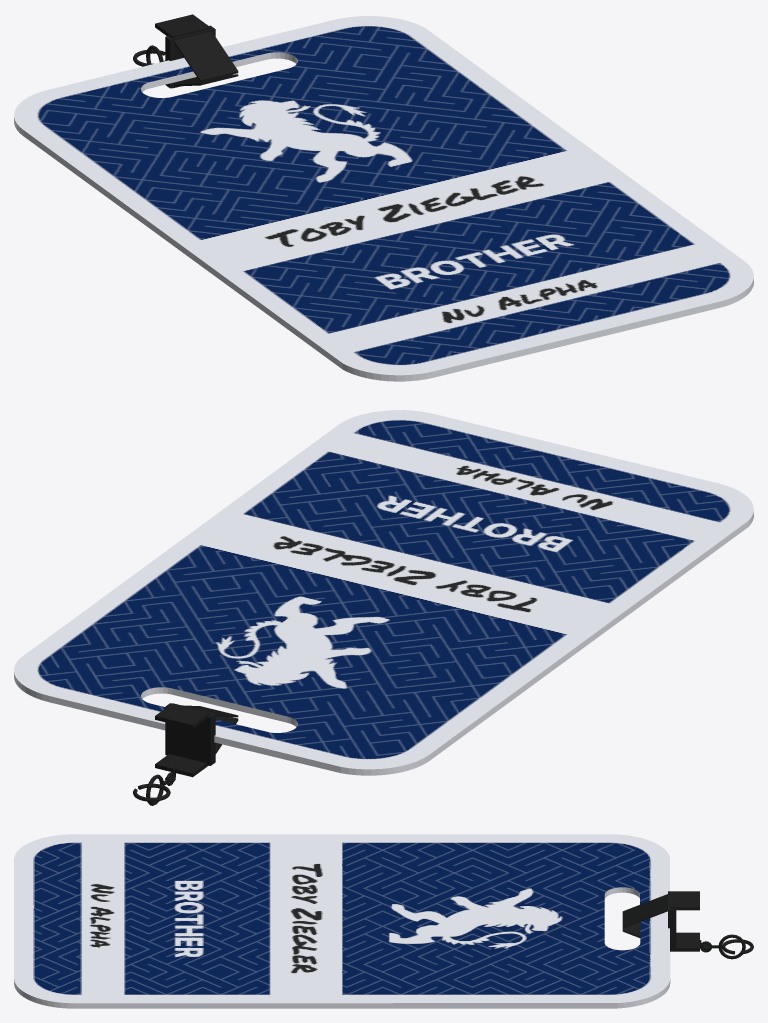
The model's file is card7.glb.
3 views of the same model, one above another, from view 1: azimuth 30°, elevation 25°; view 2: azimuth 150°, elevation 25°; view 3: azimuth 270°, elevation 25° (orthographic). The views are drawn at different scales.
Parts seen in each view (by area): view 1: card, clip; view 2: card, clip; view 3: card, clip.
Part boxes in pixels (left/top/right/bottom): card: left=14, top=16, right=753, bottom=381; clip: left=146, top=14, right=238, bottom=88; card: left=14, top=410, right=753, bottom=775; clip: left=146, top=703, right=238, bottom=805; card: left=14, top=834, right=670, bottom=1008; clip: left=622, top=891, right=745, bottom=959.
Size of the model in its own units: 3.35 by 0.555 by 6.2.
Materials: 4 (2 with a texture image).
